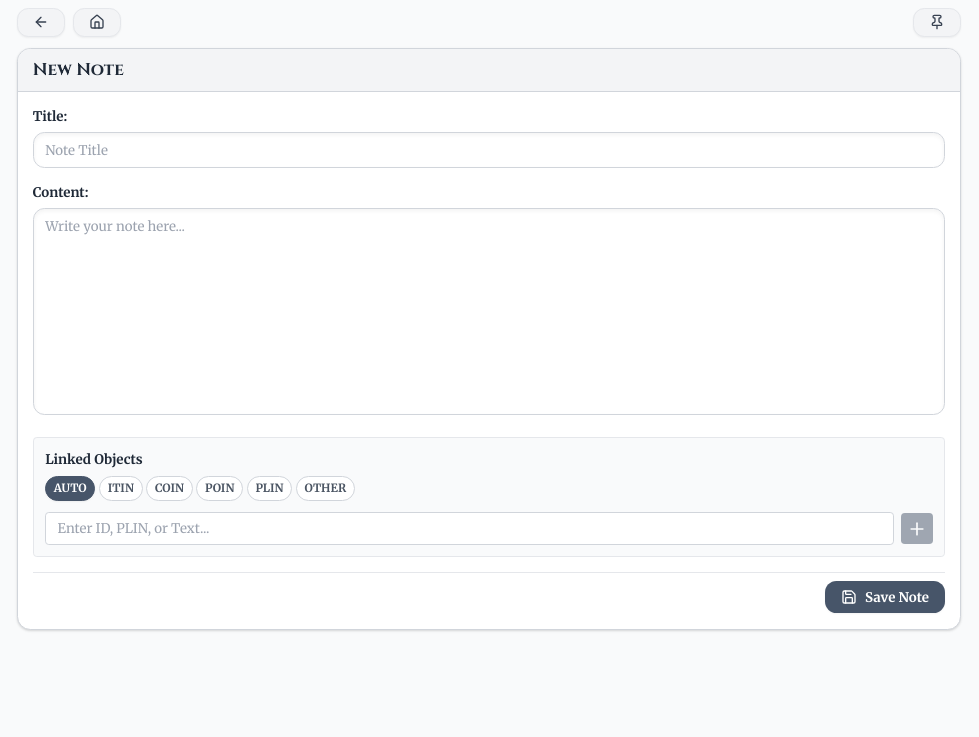
Test case: CreateNote Page › prevents adding duplicate links
The image size is (979, 737).
// First add
Type "1234" into the field with placeholder "Enter ID, PLIN, or Text..." at (470, 529), box [45, 512, 894, 545]
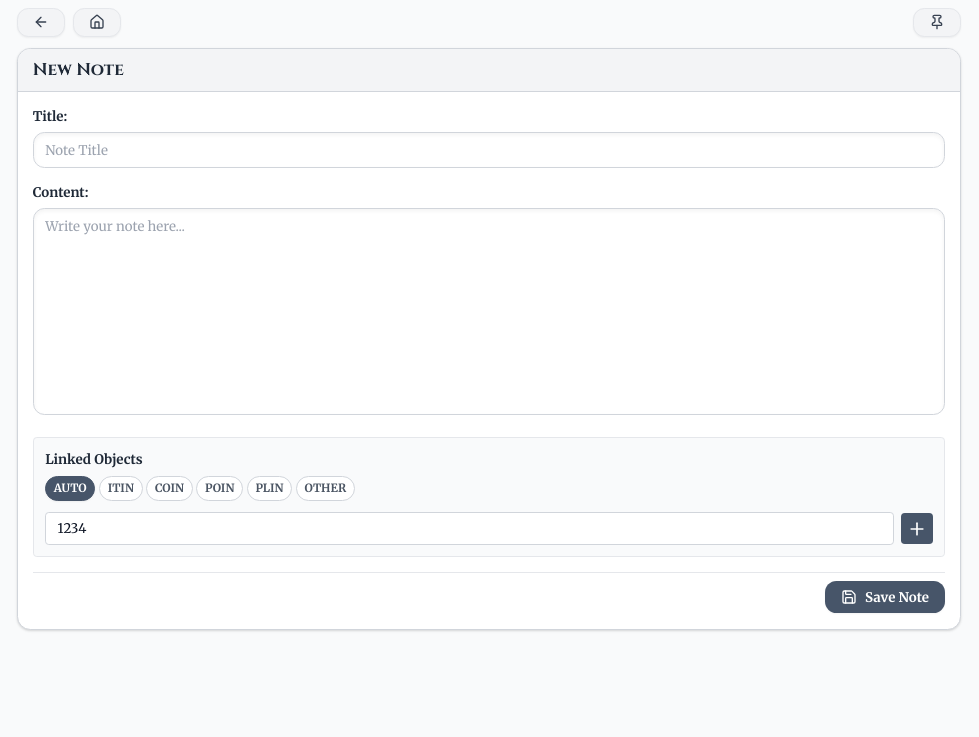
Click the button titled "Add Link" at (917, 529), box [902, 513, 933, 544]
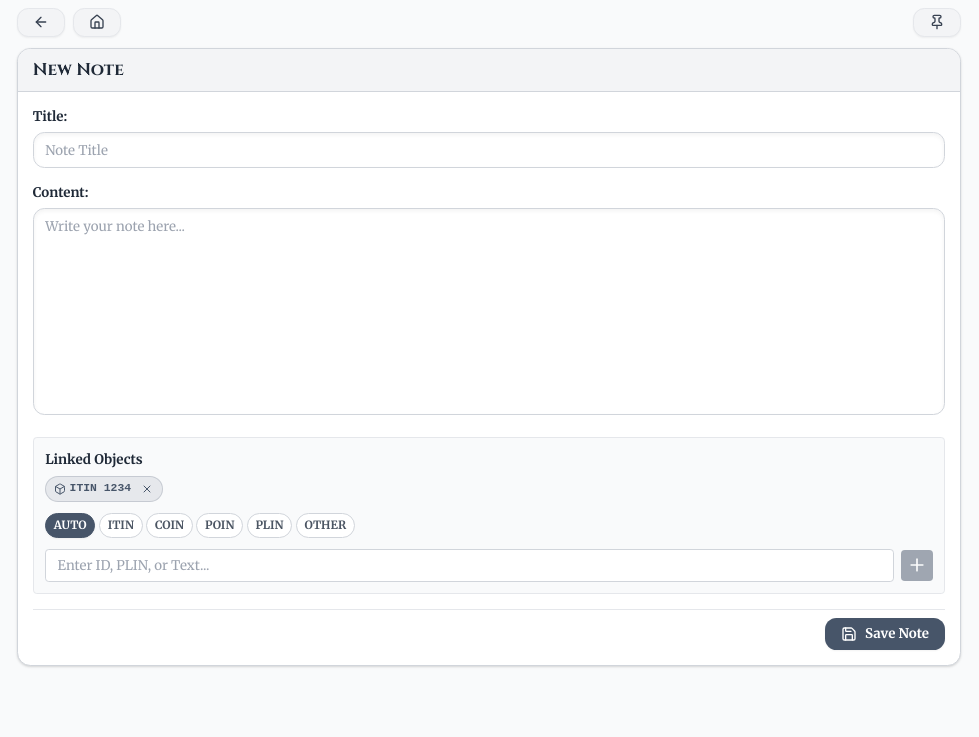
Expected: the text "ITIN 1234" is shown, [70, 481, 131, 496]
// Try to add same link again
Type "1234" into the field with placeholder "Enter ID, PLIN, or Text..." at (470, 565), box [45, 549, 894, 582]
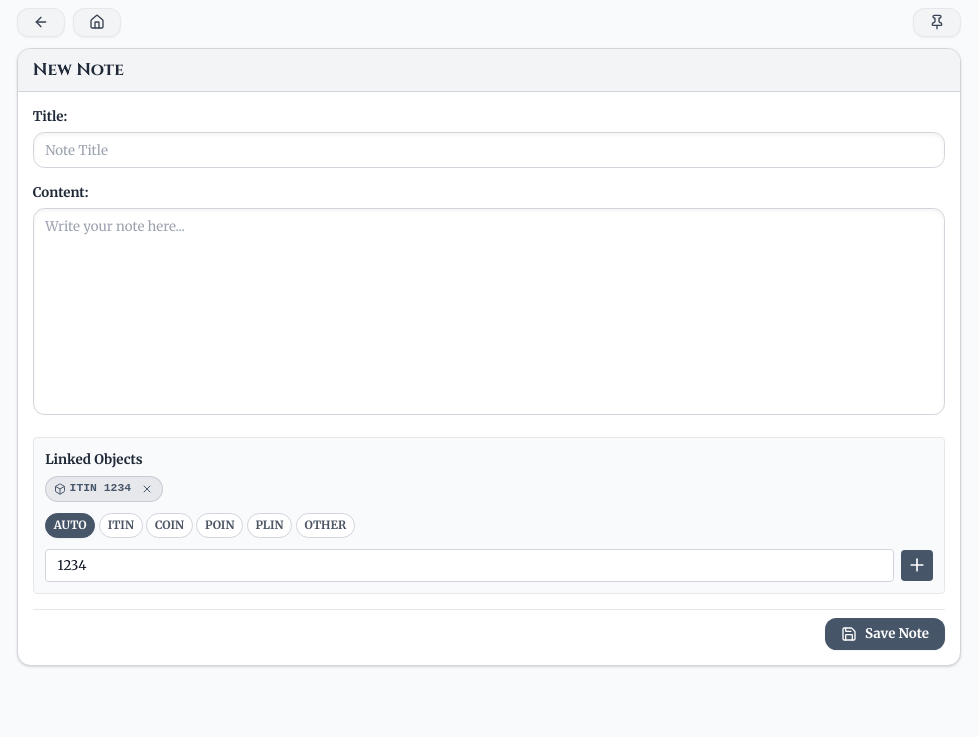
Click the button titled "Add Link" at (917, 565), box [902, 550, 933, 581]
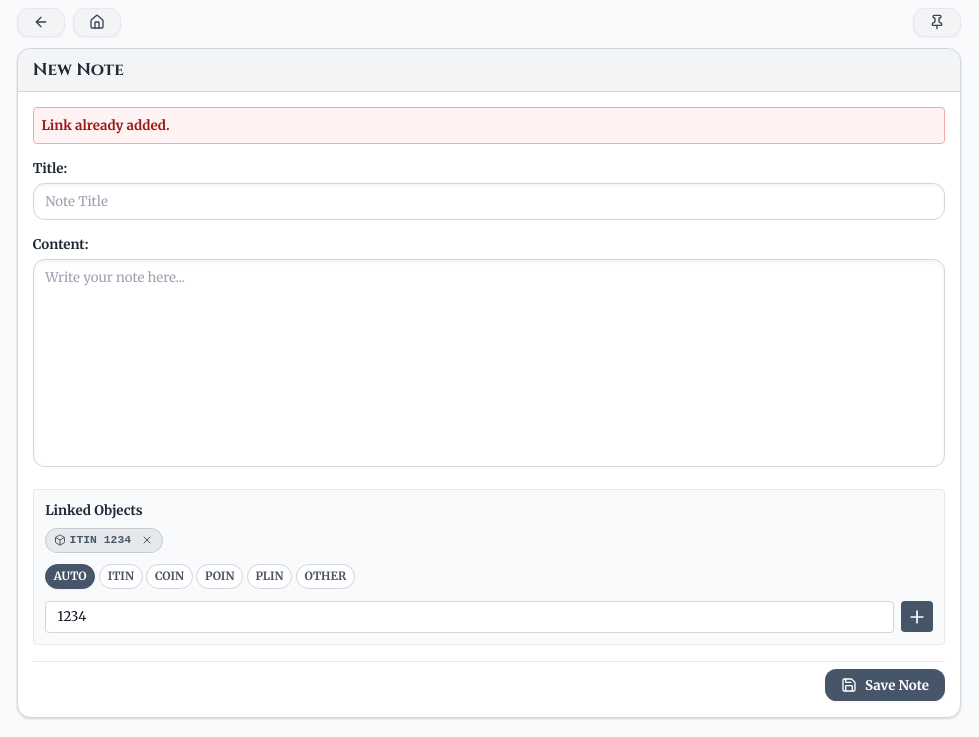
Expected: the text "Link already added." is shown, [41, 117, 170, 134]
